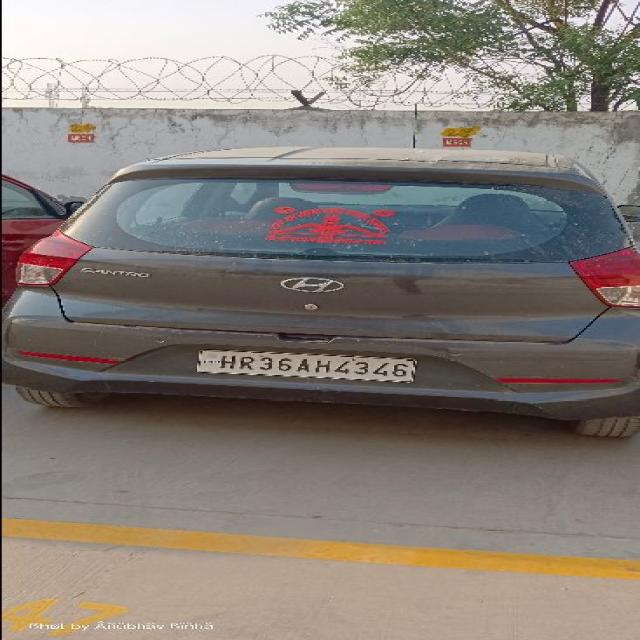license_plate: (194, 348, 416, 383)
